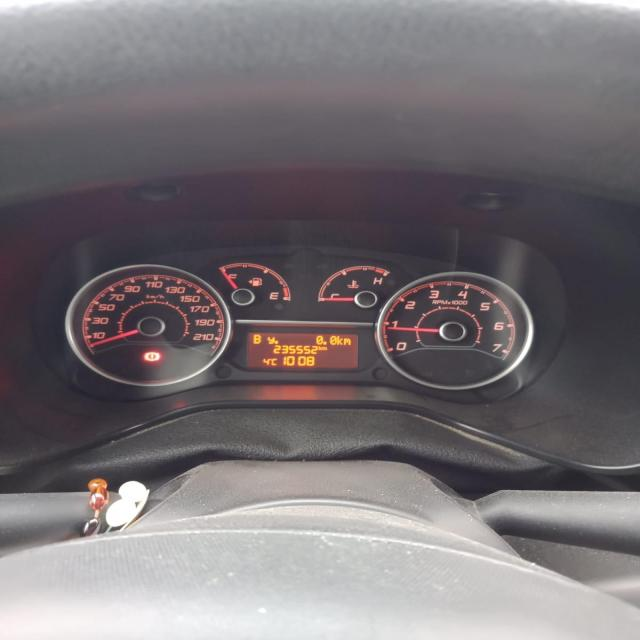odometer: (245, 331, 358, 370)
